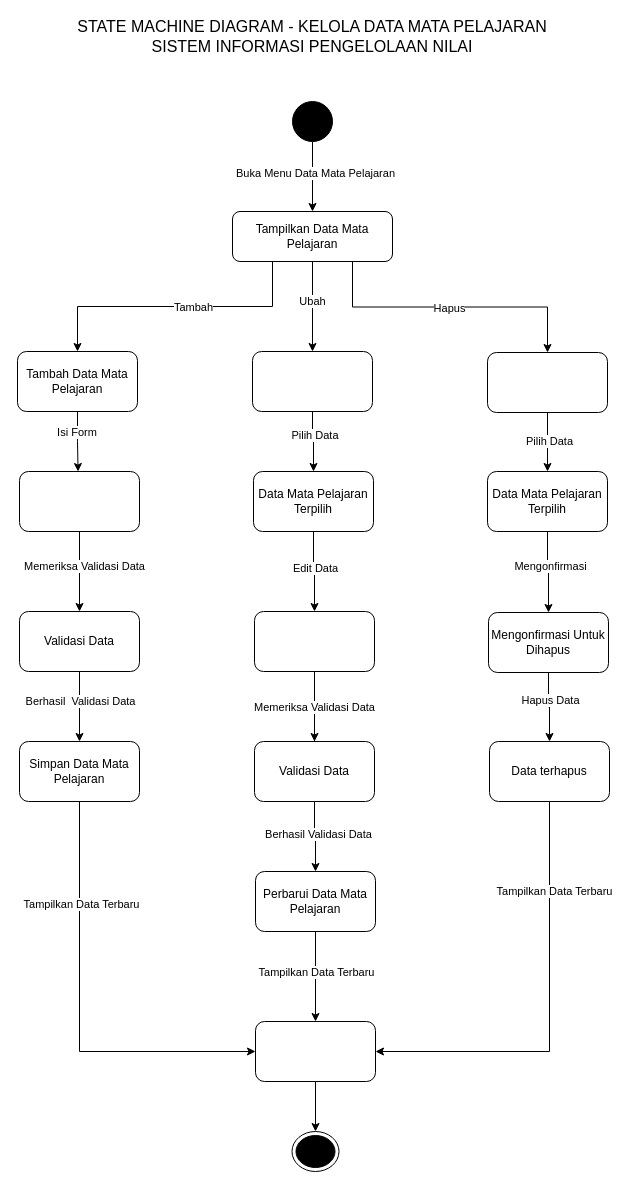
The diagram is 629 pixels wide and 1189 high, and some of its shapes have lost their labels. Each missing label, with the centre of its shape:
Hapus Data Mata Pelajaran: the point at 547,382
Menampilkan Data Terbarui: the point at 315,1051
Mengisi Form Mata Pelajaran: the point at 79,501
Mengubah Data Mata Pelajaran: the point at 314,641
Ubah Data Mata Pelajaran: the point at 312,381
